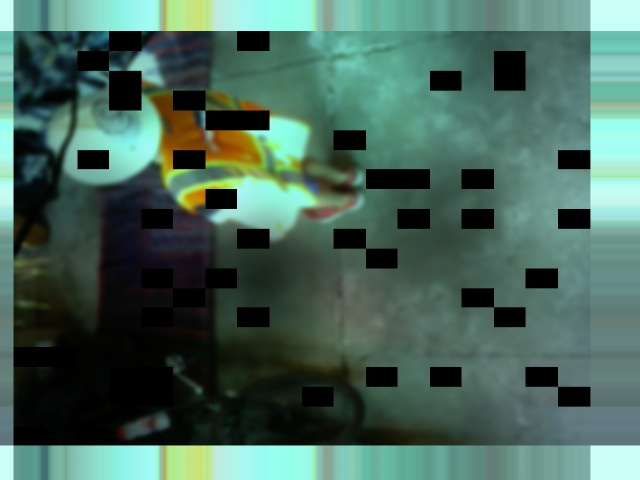two: (90, 100, 129, 133)
